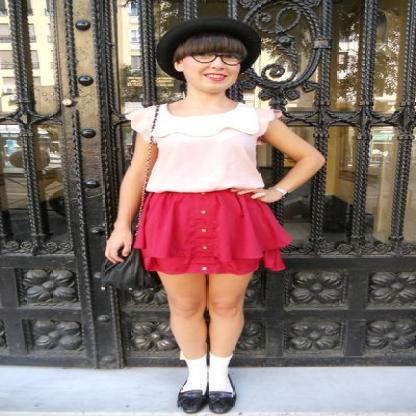hat: (146, 18, 286, 74)
shirt: (130, 103, 284, 191)
shoe: (177, 374, 236, 414)
skirt: (133, 187, 291, 277)
